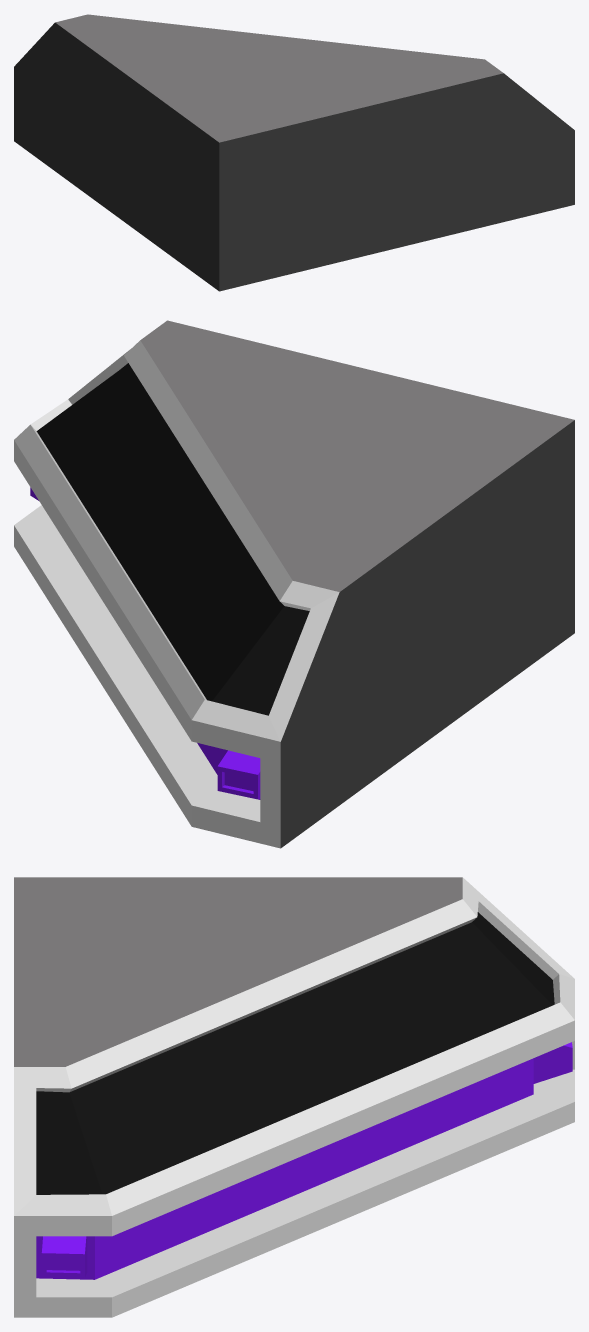
The model's file is PlatformBorder00b_2.5HardCorner.fbx.
3 renders of one model, top to bottom at view 1: azimuth 30°, elevation 25°; view 2: azimuth 150°, elevation 25°; view 3: azimuth 270°, elevation 25°, orthographic. The views are drawn at different scales.
Visible parts, largest first — view 1: PlatformBorder00b_2.5HardCorner; view 2: PlatformBorder00b_2.5HardCorner; view 3: PlatformBorder00b_2.5HardCorner.
Boxes of the visible parts, x1,y1,x2,y2 form: PlatformBorder00b_2.5HardCorner: (14,14,574,291); PlatformBorder00b_2.5HardCorner: (14,320,574,848); PlatformBorder00b_2.5HardCorner: (14,877,574,1317).
Bounding box in the file's own units: 250 × 100 × 250.
